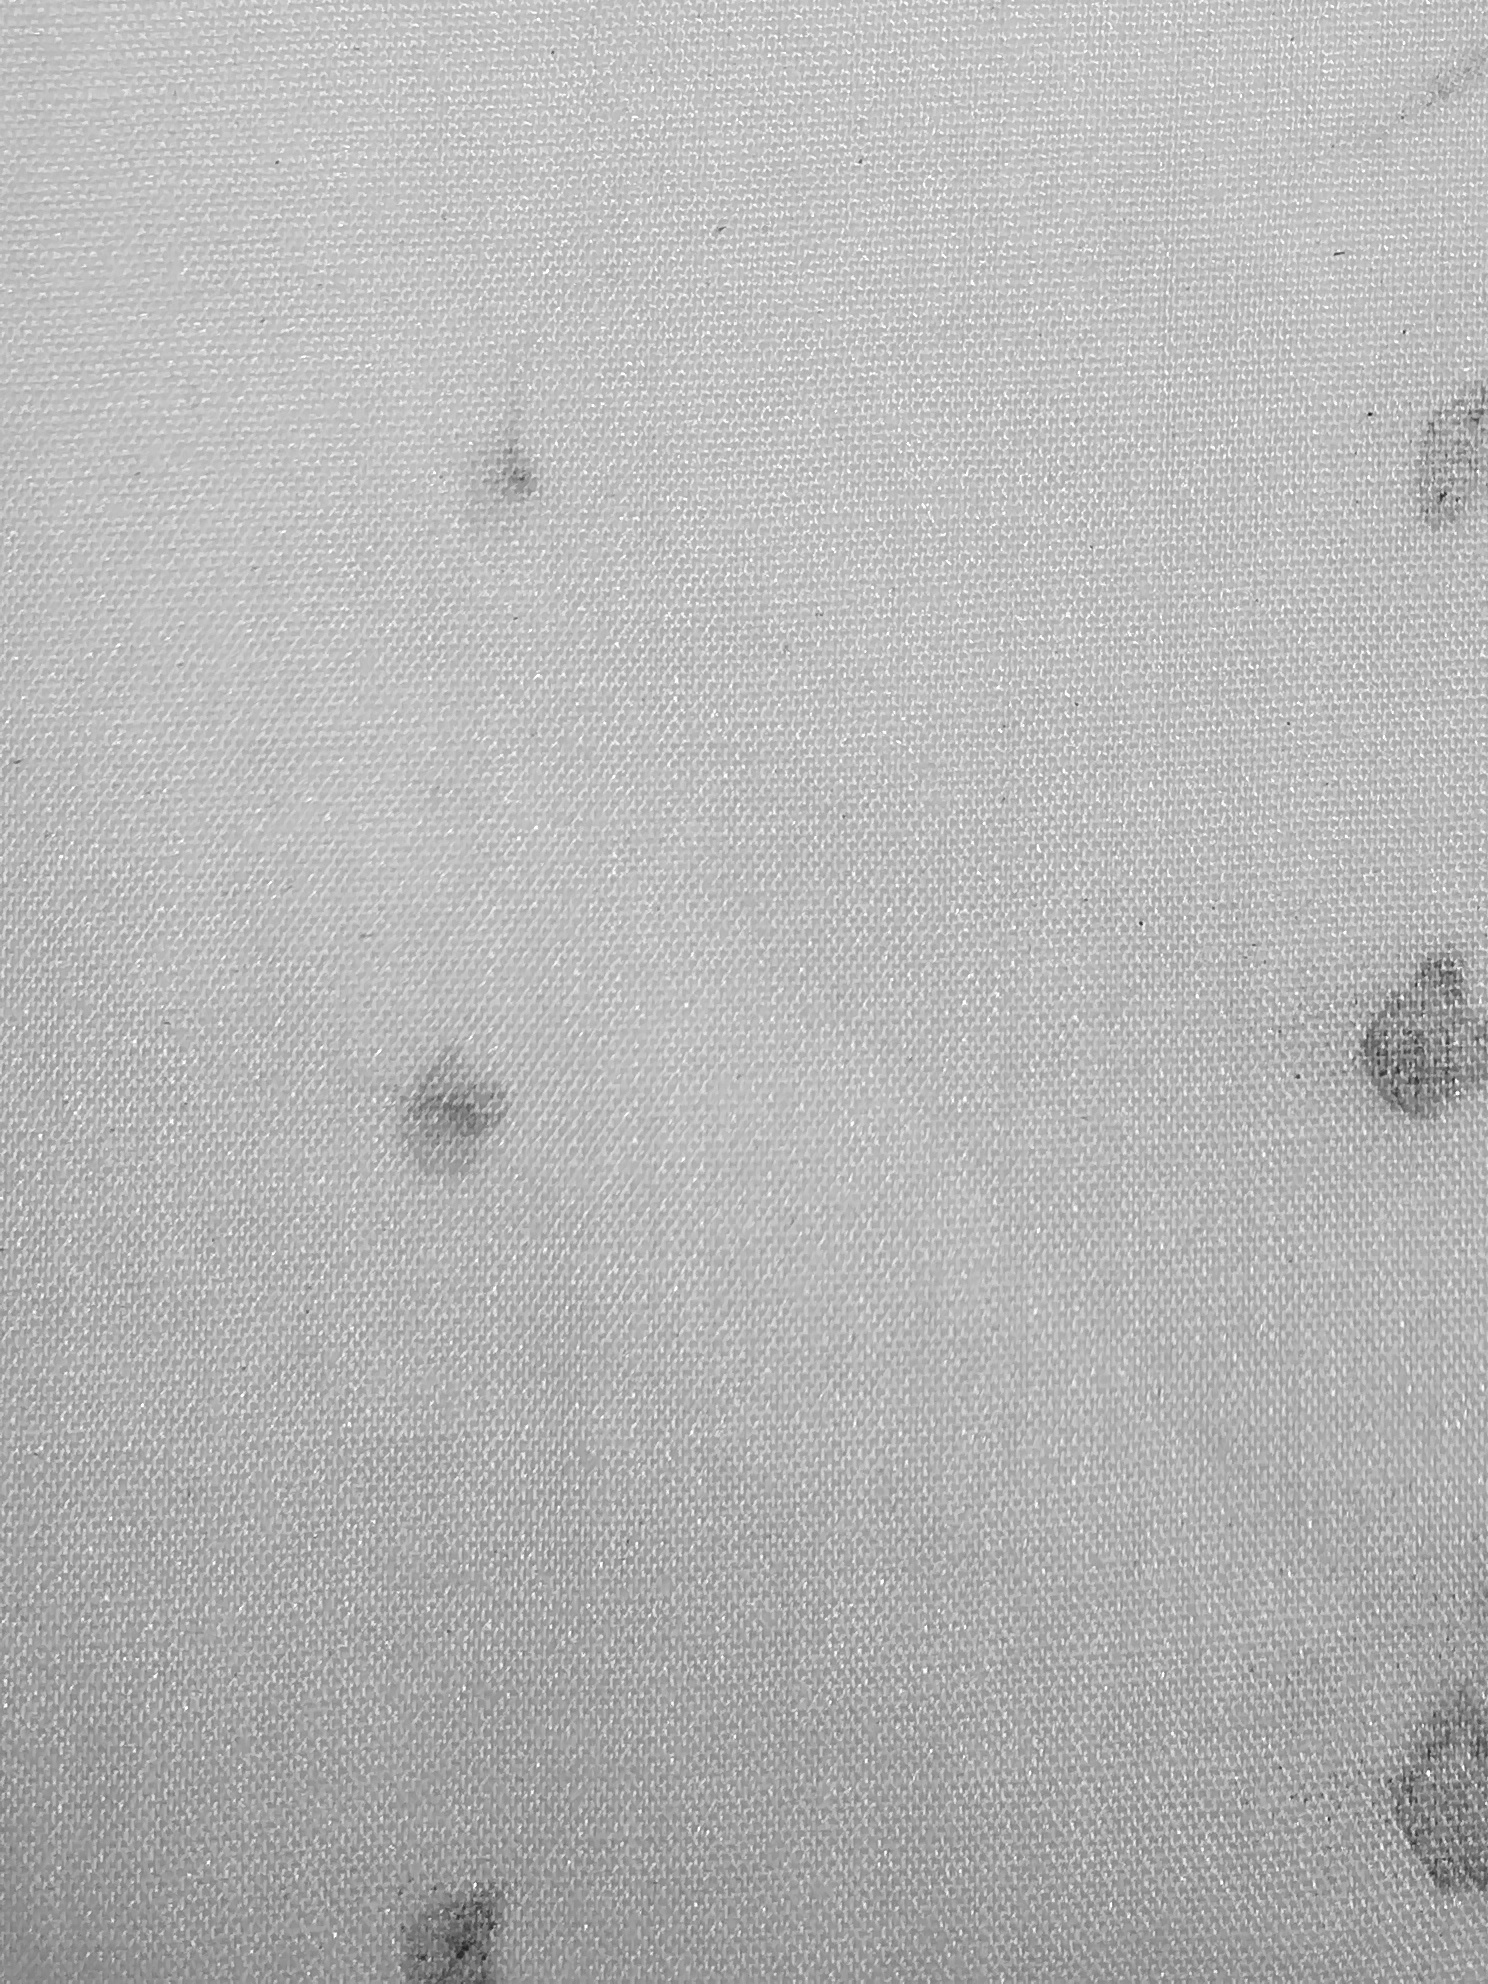Stain: (327, 230, 639, 641), (306, 905, 639, 1281), (252, 1770, 702, 1984), (1293, 794, 1488, 1204), (1283, 1543, 1488, 1903), (1347, 303, 1488, 637)
